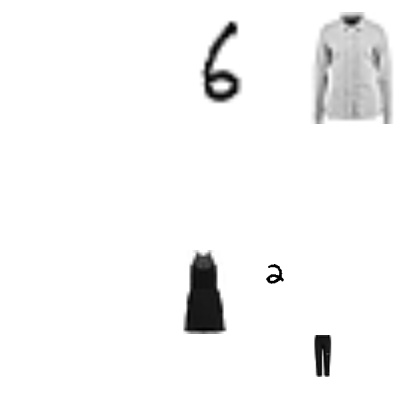2: (261, 261, 289, 289)
6: (161, 10, 273, 122)
Dress: (163, 250, 247, 334)
Shirt: (296, 12, 408, 124)
Trouser: (301, 335, 343, 377)
